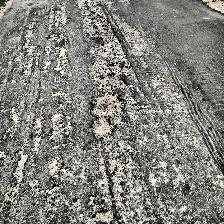pothole: (88, 92, 126, 116), (92, 15, 118, 49), (91, 116, 115, 140), (12, 150, 30, 182), (94, 74, 128, 90), (92, 209, 114, 223), (47, 158, 63, 176)
